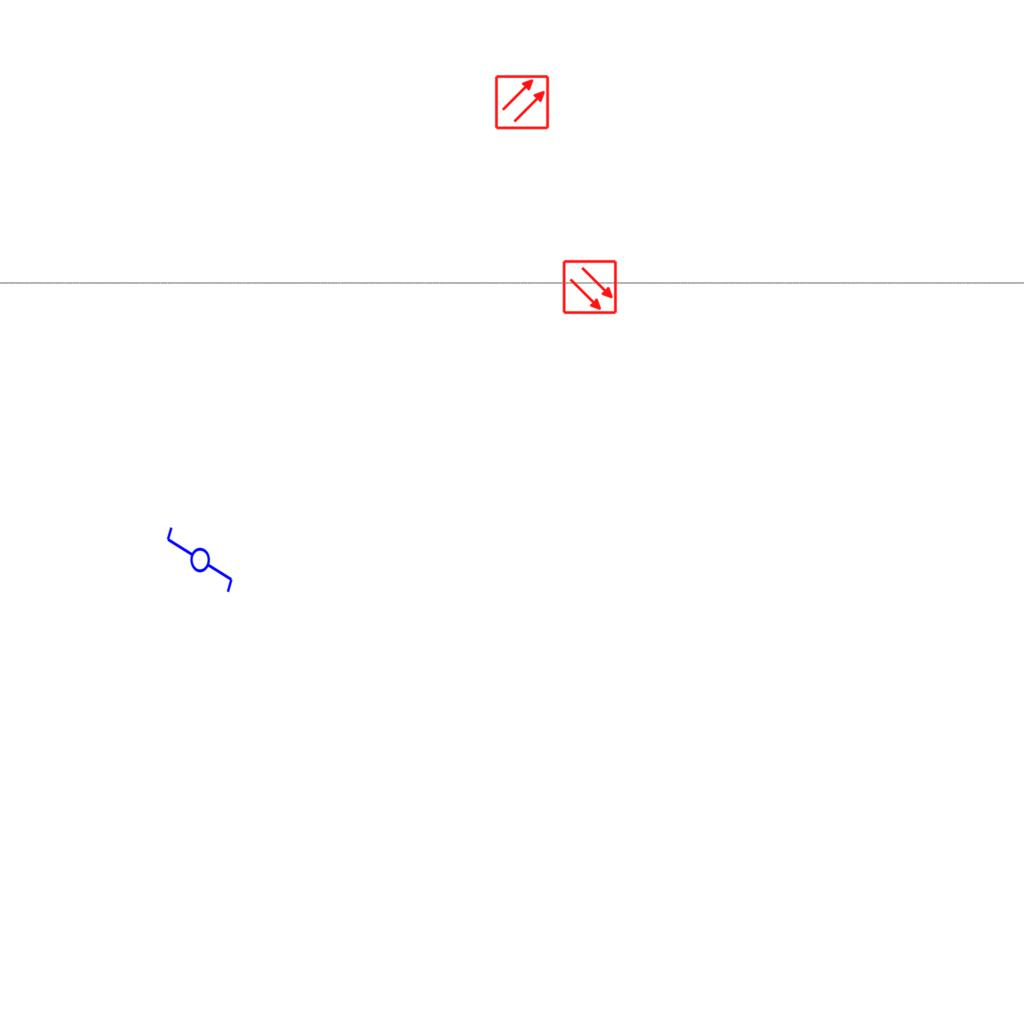RMO_Rauchmelder_optischer: (494, 74, 550, 130), (562, 259, 618, 315)
Wechselschalter: (163, 525, 235, 603)
